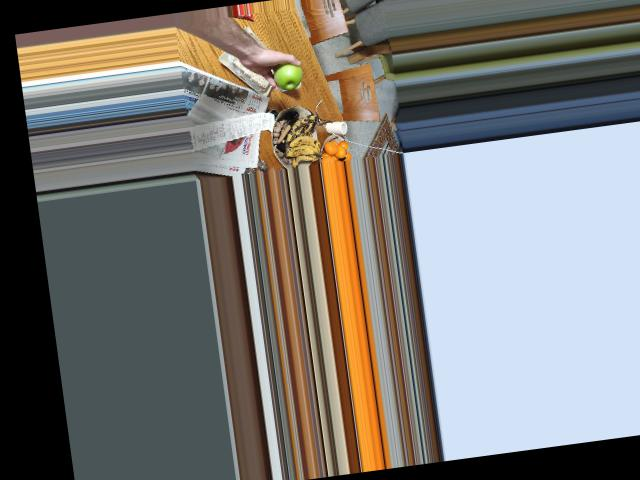apple: (269, 56, 305, 90)
